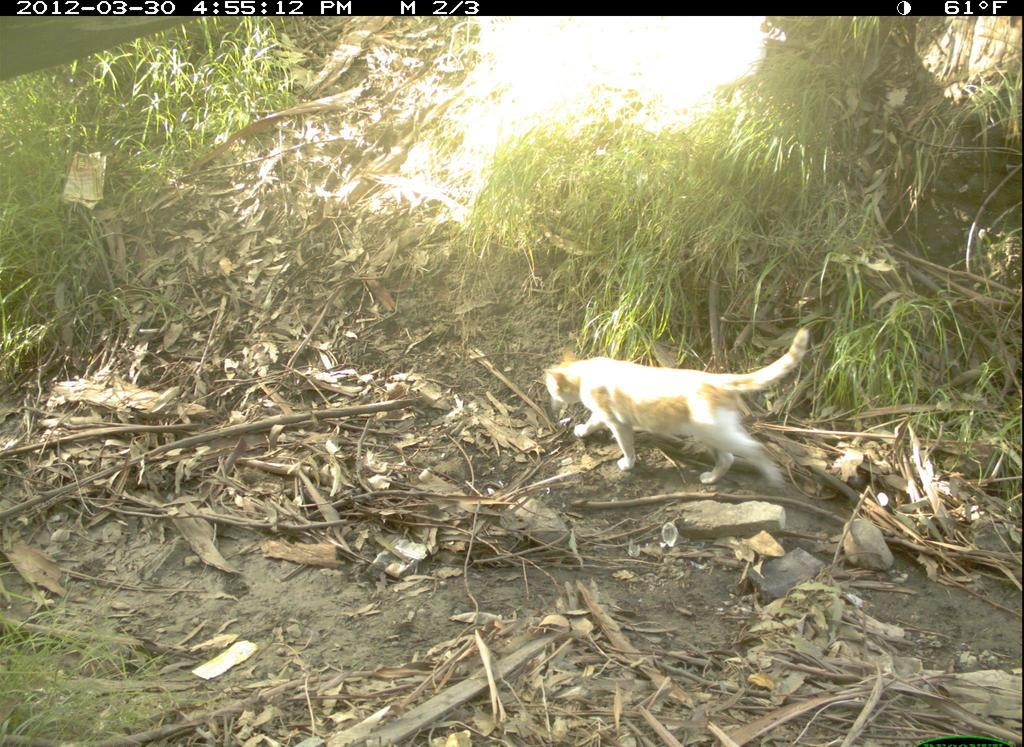cat: (542, 319, 847, 497)
